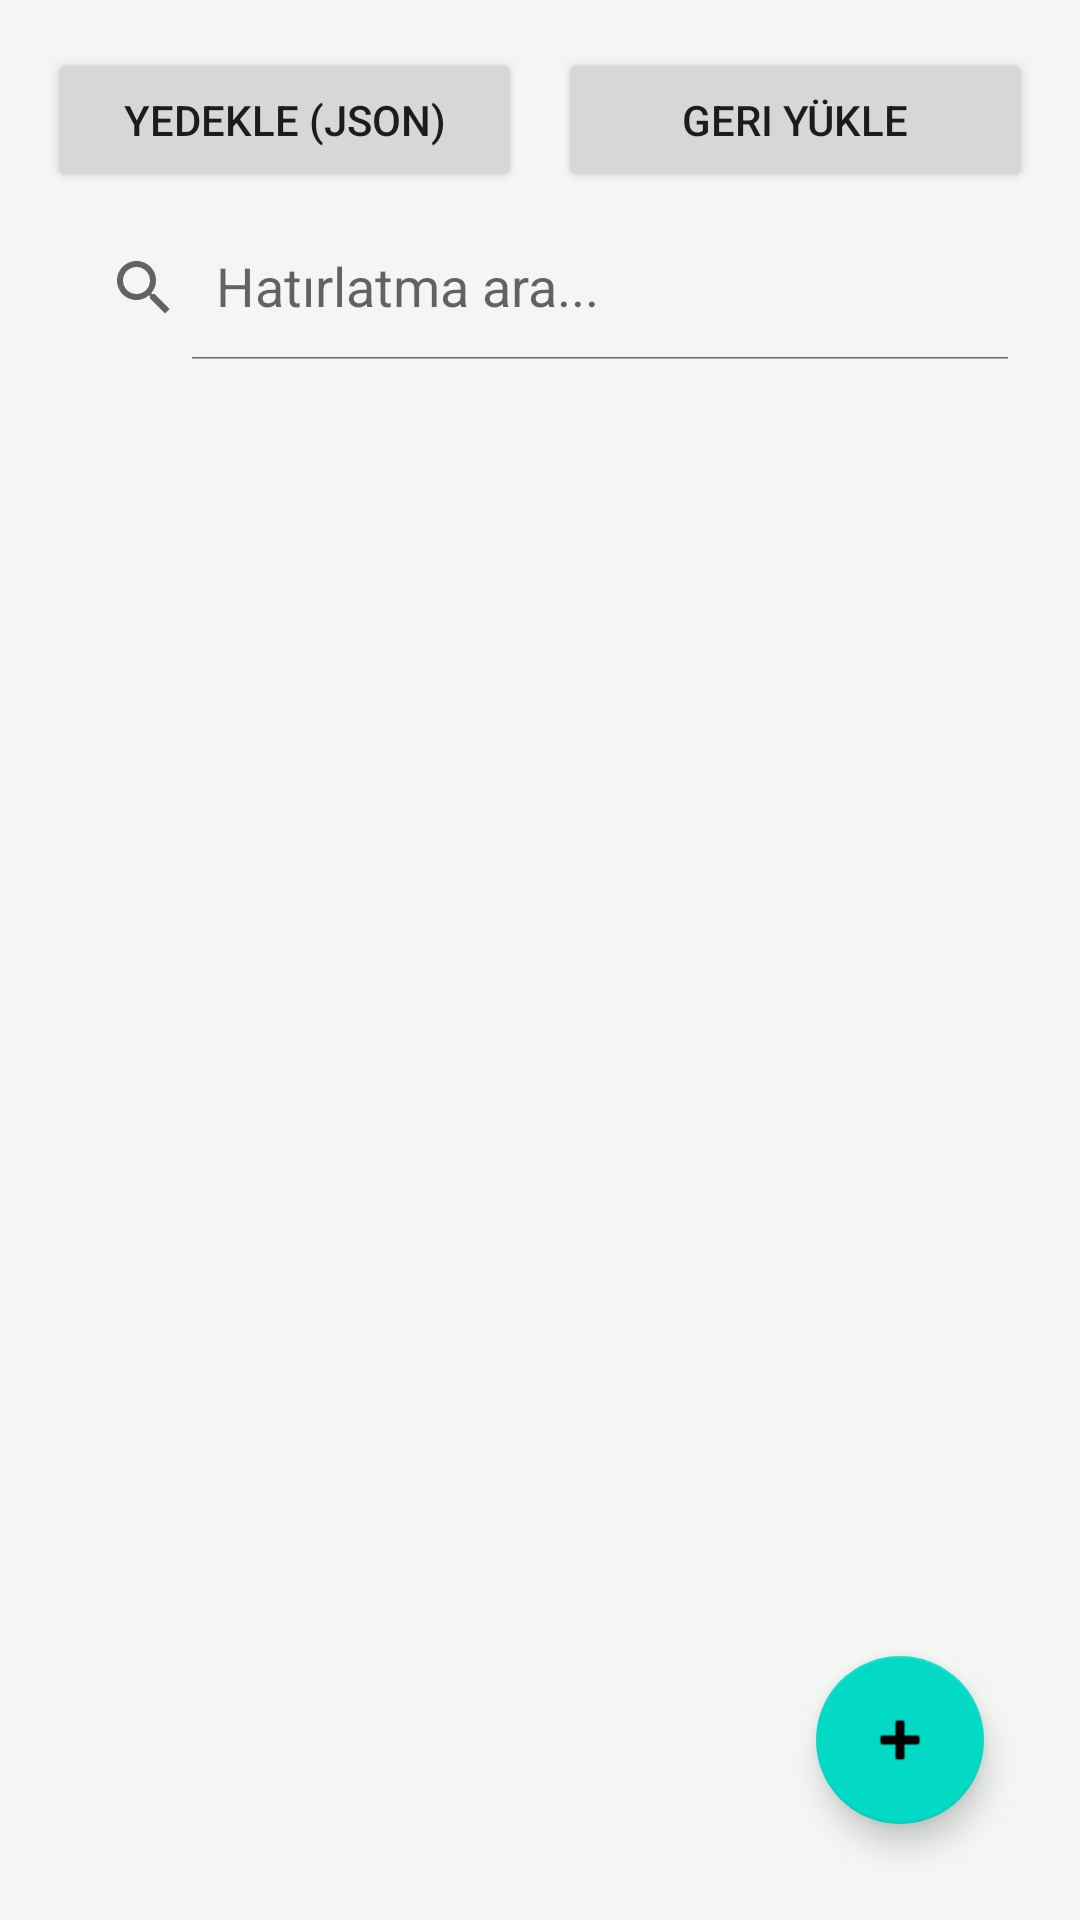

Icons on this 1080 × 1920 Android screen, each with the point to tap as [x,y]:
Yeni Ekle: [900,1740]
